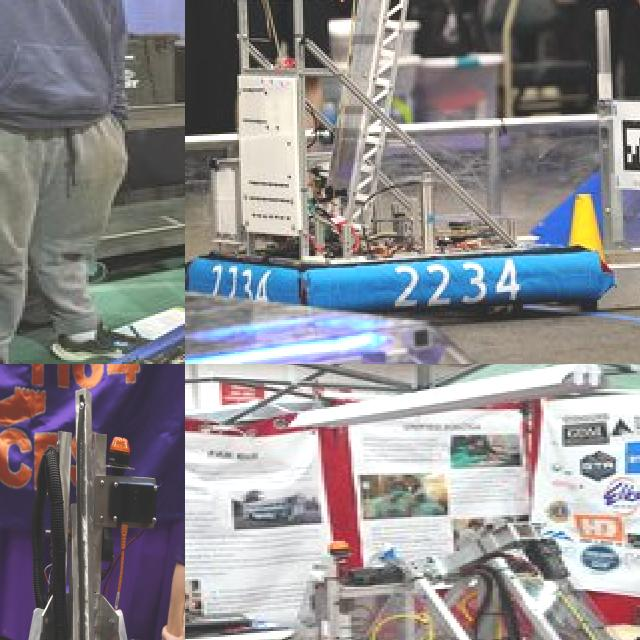FRC-Robots: (213, 0, 640, 354), (185, 364, 640, 640), (0, 376, 185, 640), (122, 0, 185, 364)
